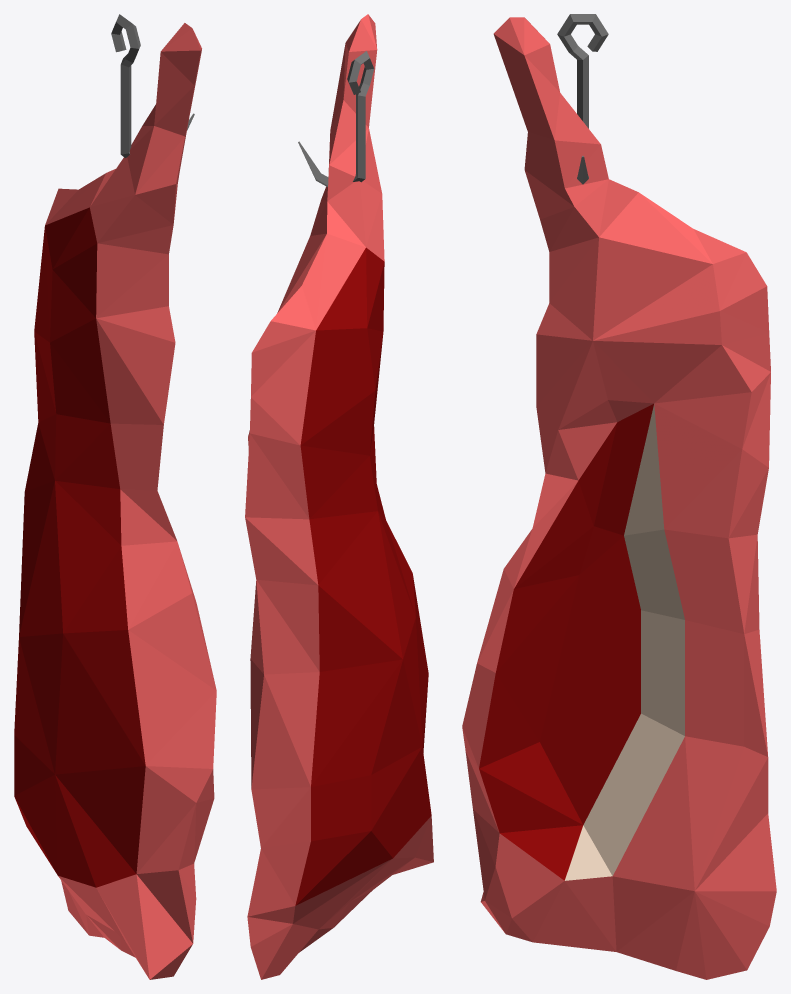
The model's file is Prop_Meat_Hook_01.fbx.
The picture shows the model from 3 angles, left to right: view 1: azimuth 30°, elevation 25°; view 2: azimuth 150°, elevation 25°; view 3: azimuth 270°, elevation 25°; orthographic projection. The views are drawn at different scales.
Parts seen in each view (by area): view 1: Model; view 2: Model; view 3: Model.
Boxes of the visible parts, x1,y1,x2,y2 form: Model: (14,14,216,979); Model: (245,14,433,979); Model: (462,14,776,979).
Size of the model in its own units: 52.58 by 338 by 100.
